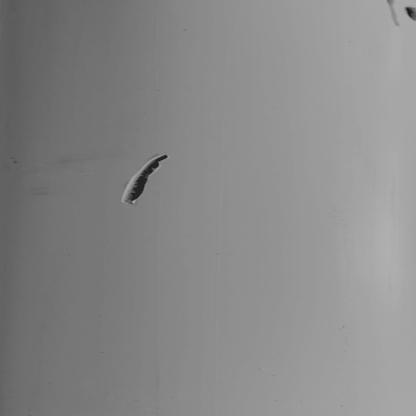kongdong: (120, 148, 172, 205)
